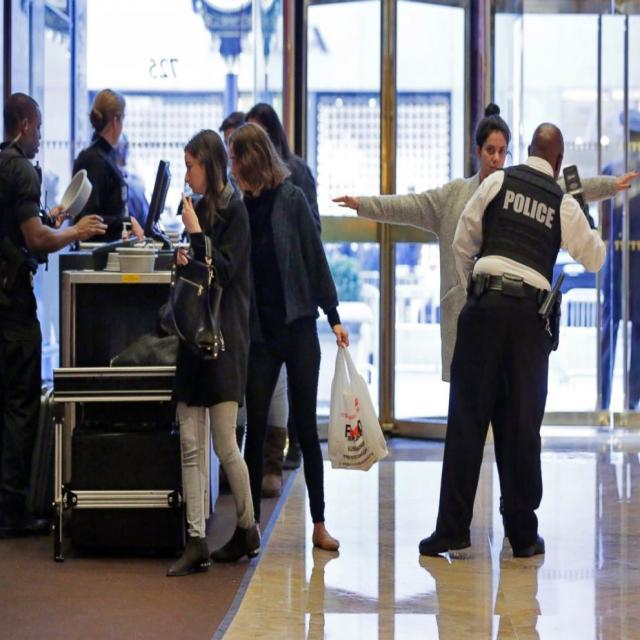body: (331, 102, 640, 390), (416, 117, 610, 568), (229, 120, 354, 554), (0, 90, 109, 538), (163, 126, 263, 579), (240, 100, 323, 470), (279, 546, 546, 640), (594, 105, 640, 412), (70, 88, 145, 243), (105, 123, 164, 236), (217, 110, 246, 200)
